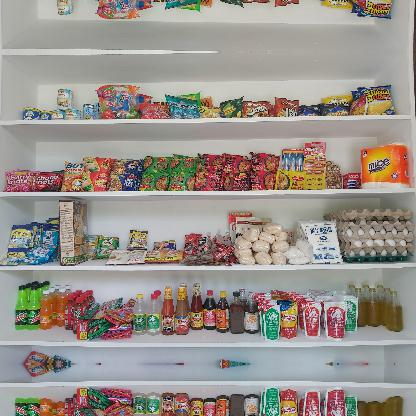Koko-Krunch: (58, 198, 90, 266)
